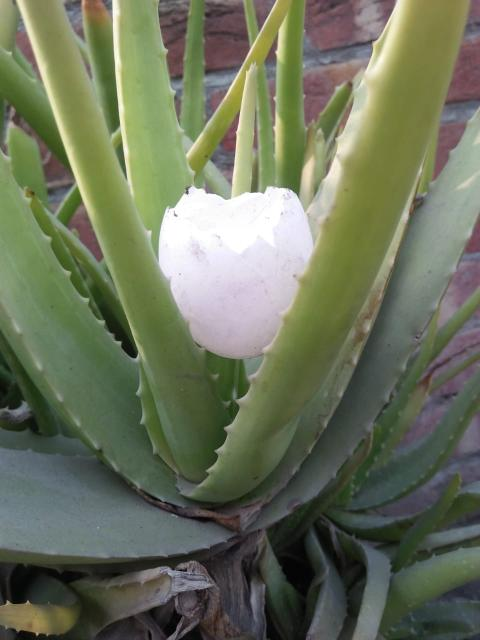Roto: (156, 183, 315, 360)
